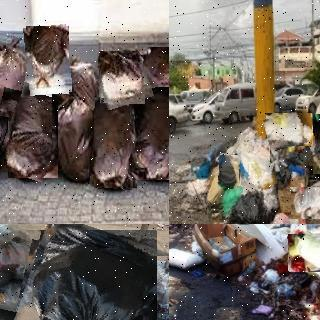Garbage: (17, 224, 165, 320), (2, 85, 65, 181), (92, 98, 139, 189), (52, 94, 96, 182), (130, 87, 169, 180), (96, 48, 151, 107), (25, 25, 71, 95), (0, 224, 36, 309), (0, 31, 36, 112), (60, 57, 101, 109), (143, 44, 169, 119), (238, 138, 274, 191), (265, 111, 314, 149), (226, 187, 272, 224), (143, 256, 169, 320), (287, 233, 320, 271), (290, 186, 320, 219), (218, 155, 240, 189)
